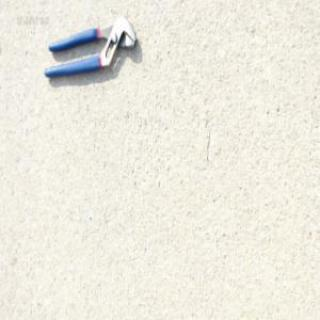Pliertrack_idkeyframe: (41, 13, 136, 78)
